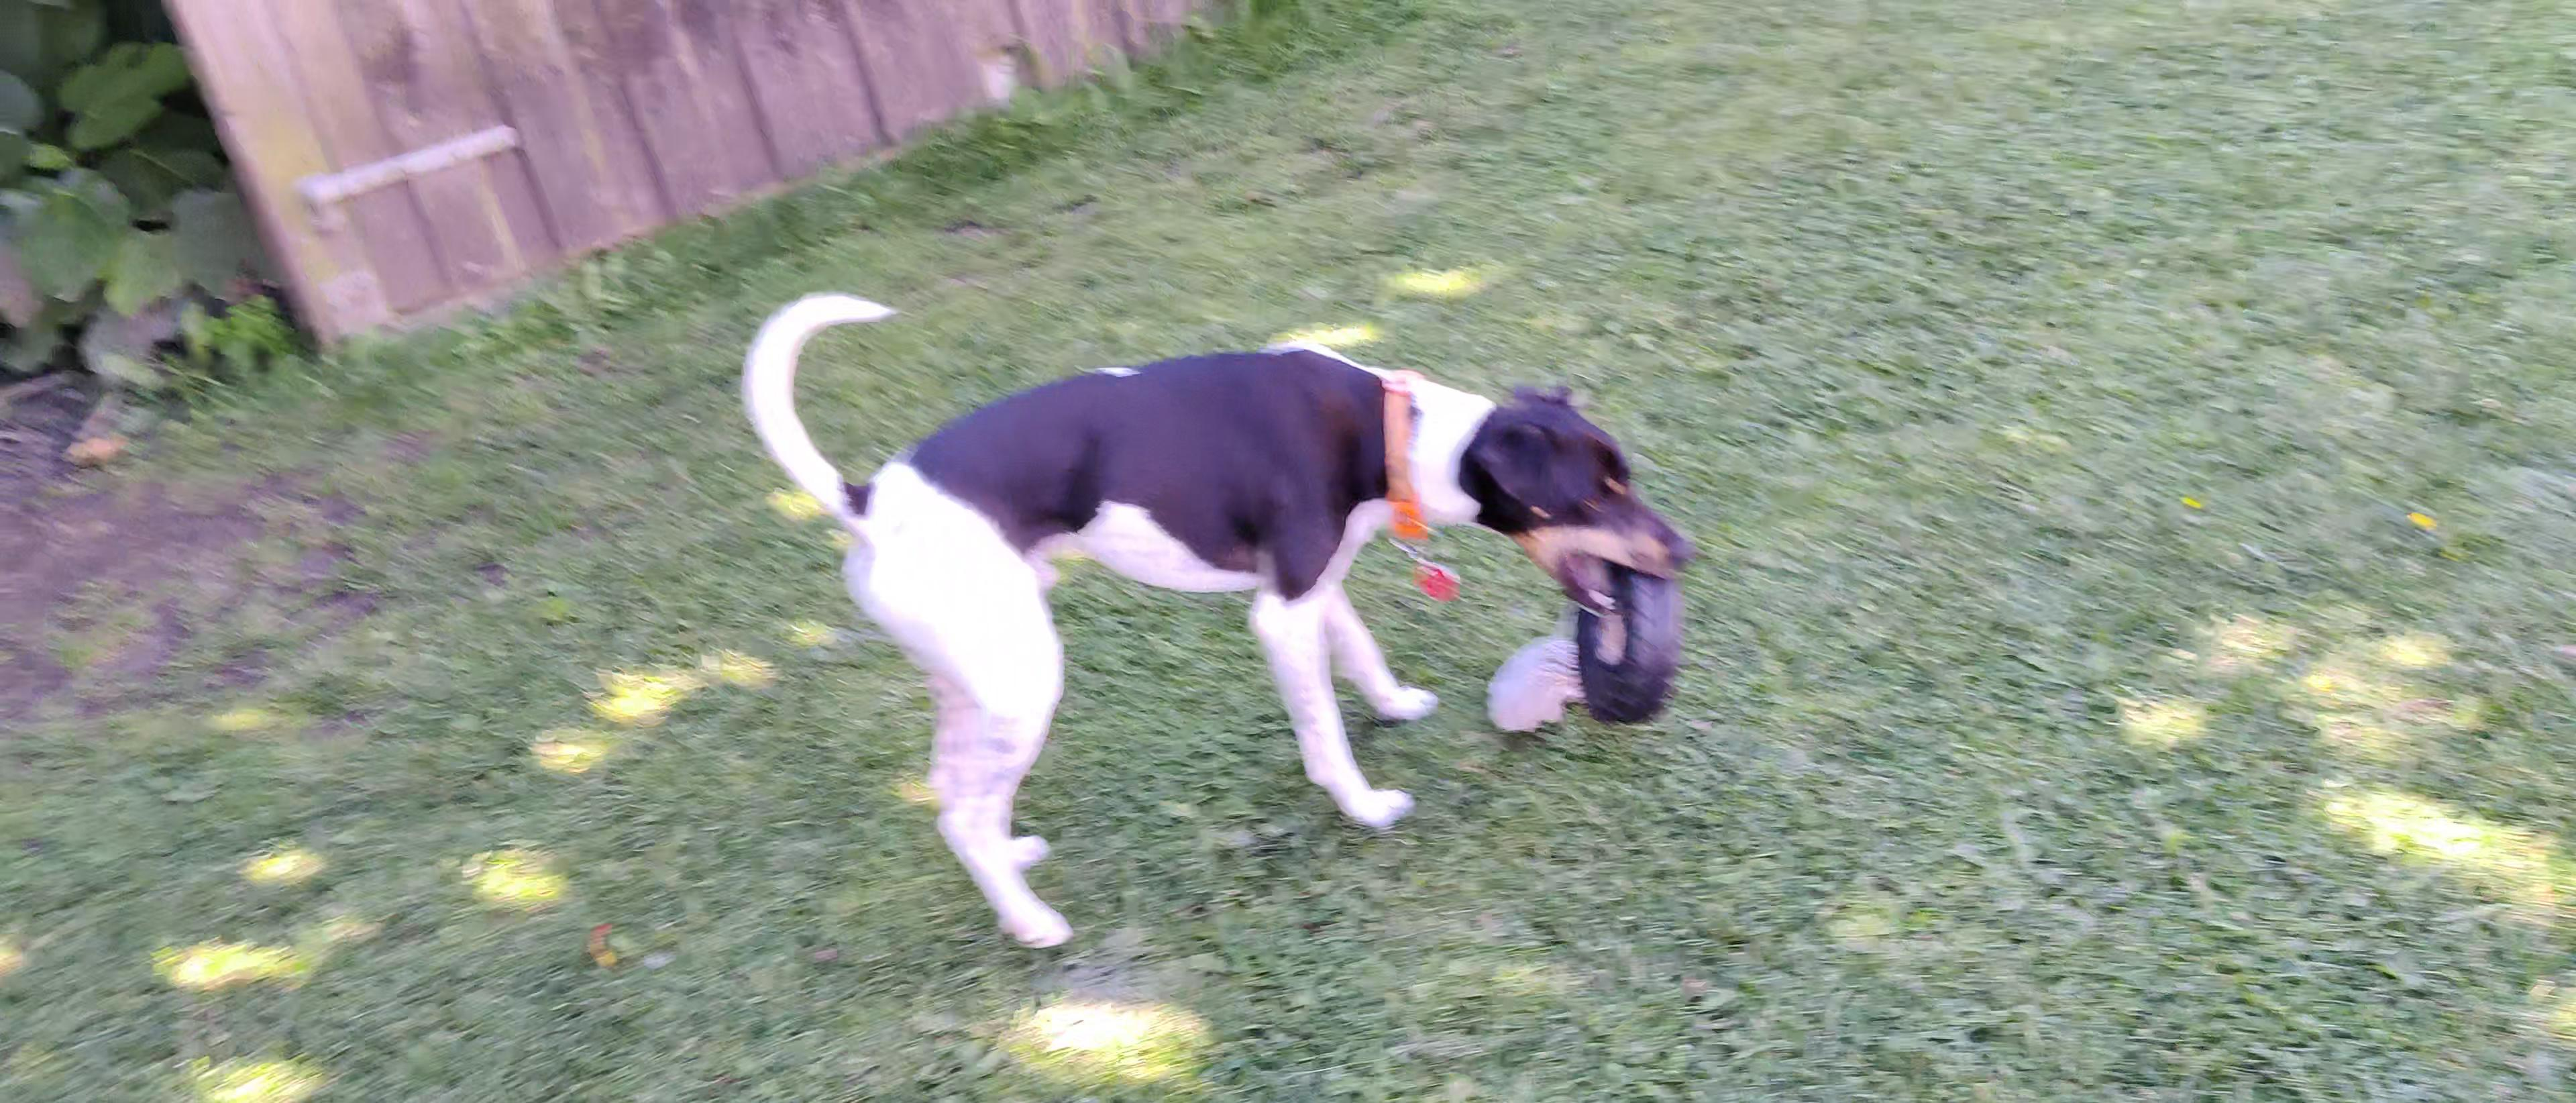Dog: (736, 289, 1700, 952)
